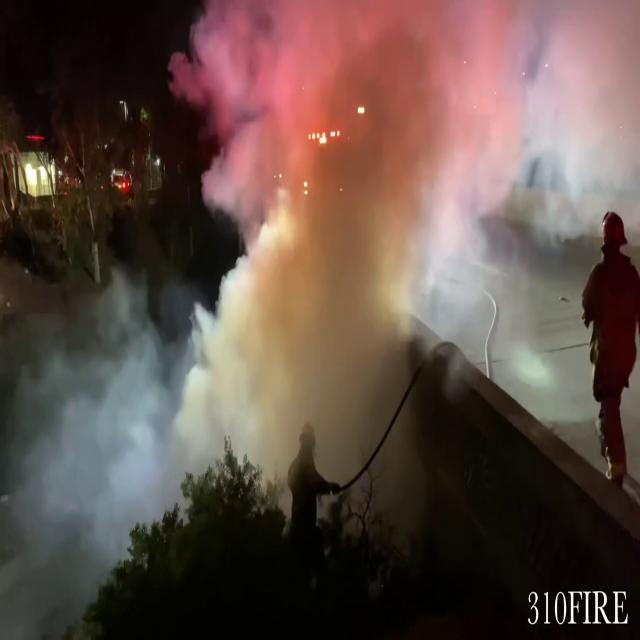Smoke: (177, 0, 501, 509), (3, 258, 191, 554)
